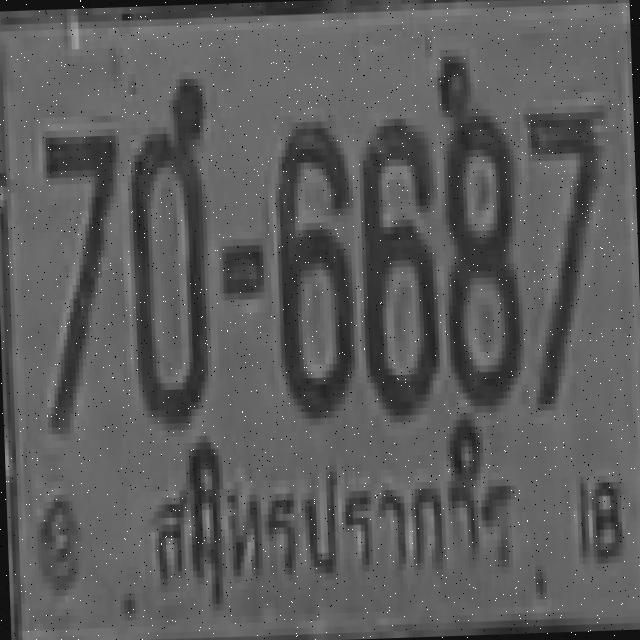0: (124, 78, 213, 424)
6: (353, 111, 437, 416), (268, 114, 352, 412)
7: (40, 128, 124, 428), (522, 104, 606, 403)
8: (438, 91, 522, 403)
SamutPrakan: (134, 448, 526, 614)
